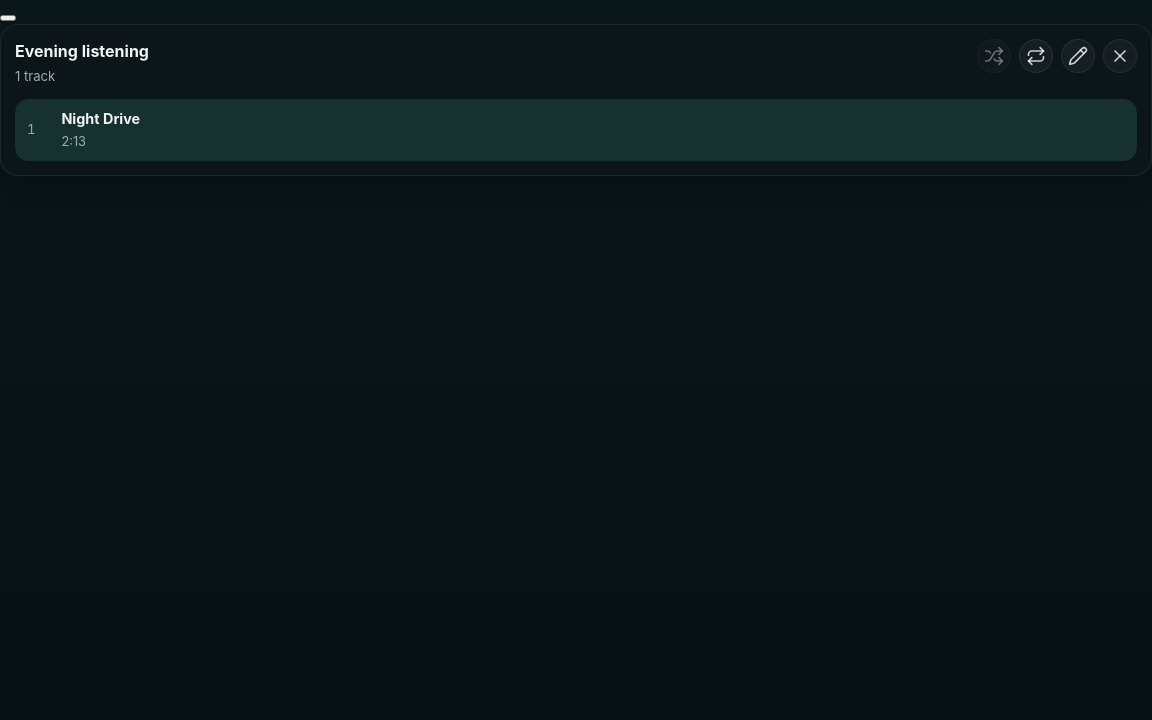
Test: PlaylistPanel track metadata editing › opens track details without selecting playback while editing the playlist
Click the button named "Edit playlist".
click(1078, 56)  # box [1061, 39, 1095, 73]
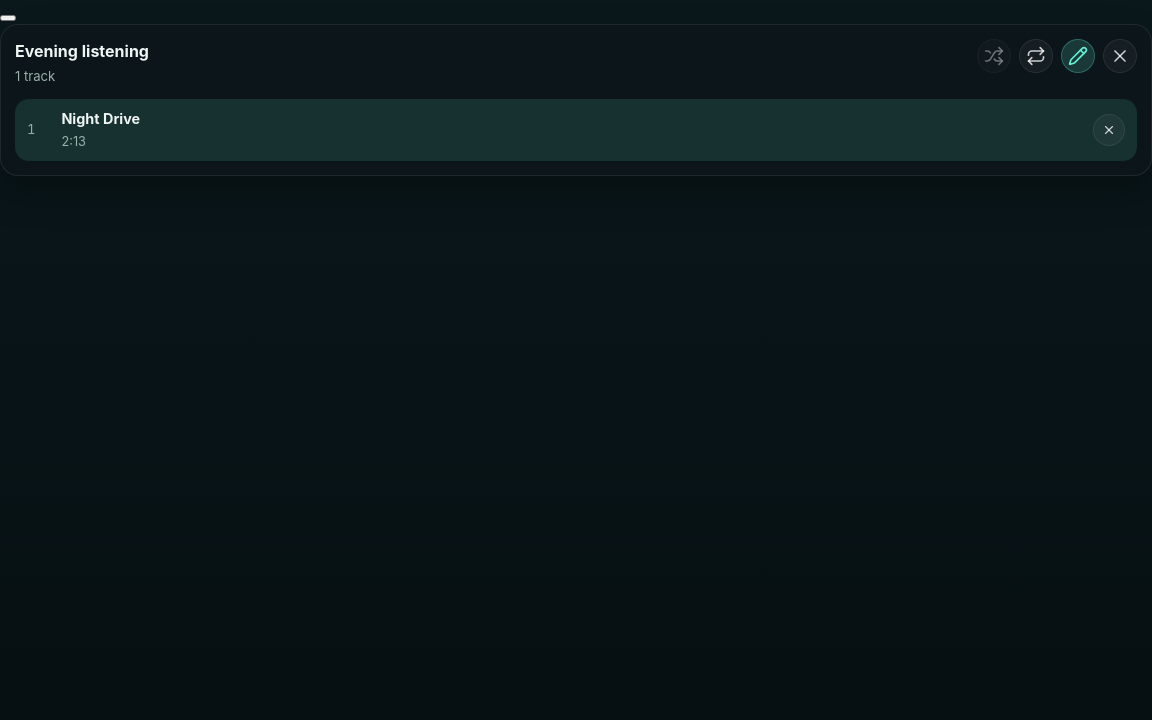
Click the button "1 Night Drive 2:13".
click(101, 118)  # box [27, 109, 1083, 151]
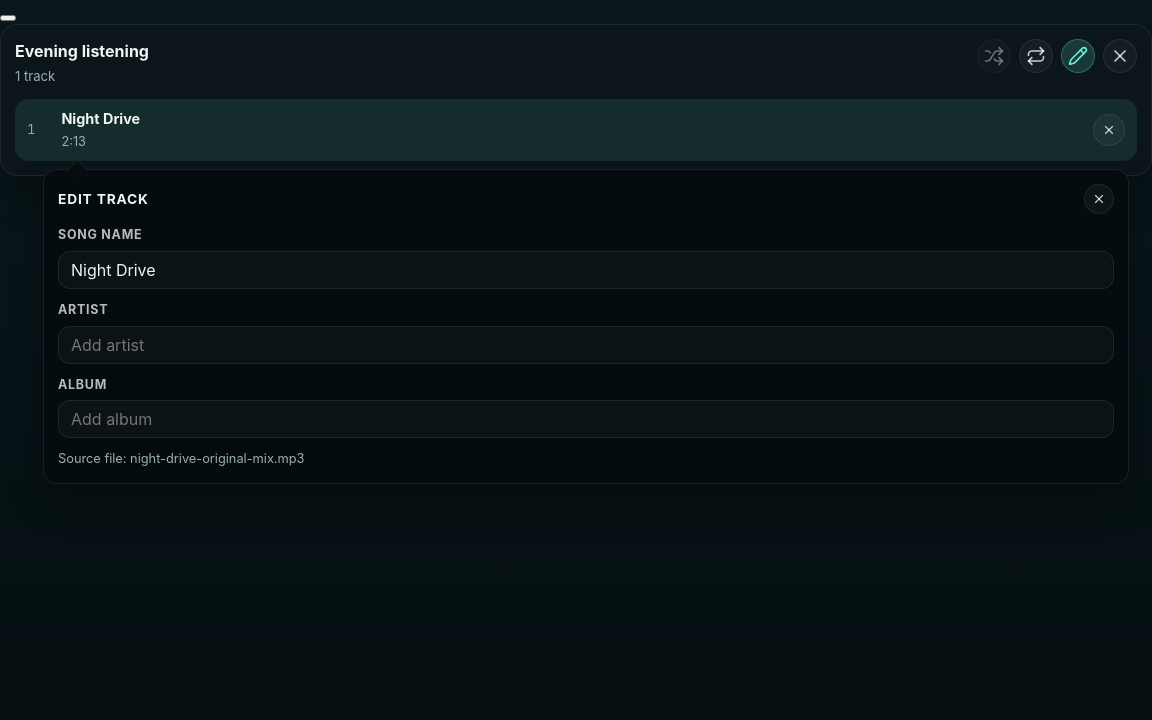
Expected: the field labelled "Song name" holds "Night Drive", [58, 251, 1114, 289]
Expected: the field labelled "Artist" is empty, [58, 326, 1114, 364]
Expected: the field labelled "Album" is empty, [58, 400, 1114, 438]
